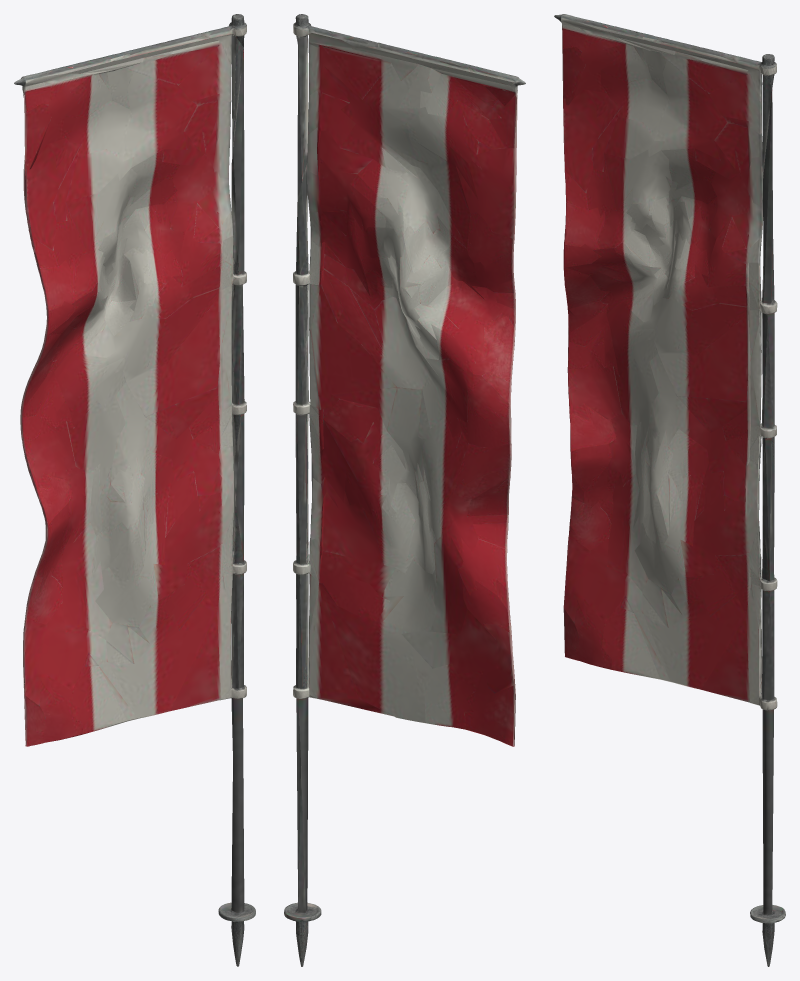
File: flag_banner.glb
3 views of the same model, side by side, from view 1: azimuth 30°, elevation 25°; view 2: azimuth 150°, elevation 25°; view 3: azimuth 330°, elevation 25° (orthographic). The views are drawn at different scales.
Visible parts, largest first — view 1: output_unwrapped; view 2: output_unwrapped; view 3: output_unwrapped.
Part boxes in pixels (x1,y1,x2,y2): output_unwrapped: (14,14,255,966); output_unwrapped: (284,14,525,966); output_unwrapped: (554,14,785,966).
Size of the model in its own units: 0.4996 by 1.9 by 0.0867.
1 material, 1 textured.
